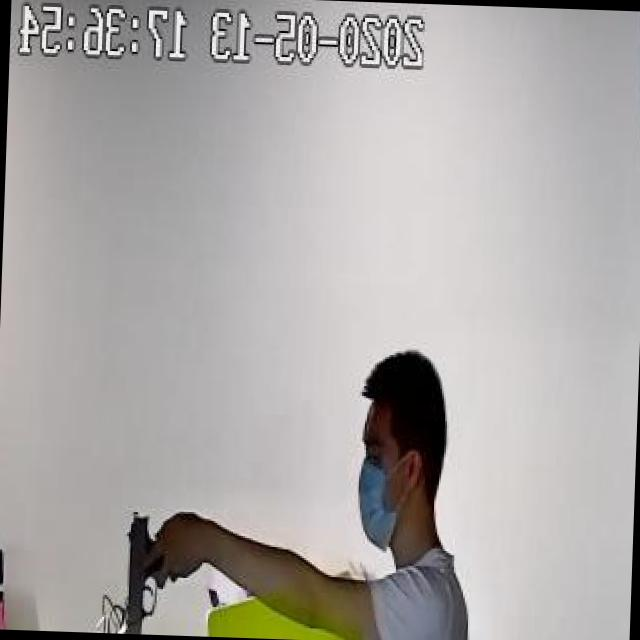Guns: (103, 498, 186, 636)
